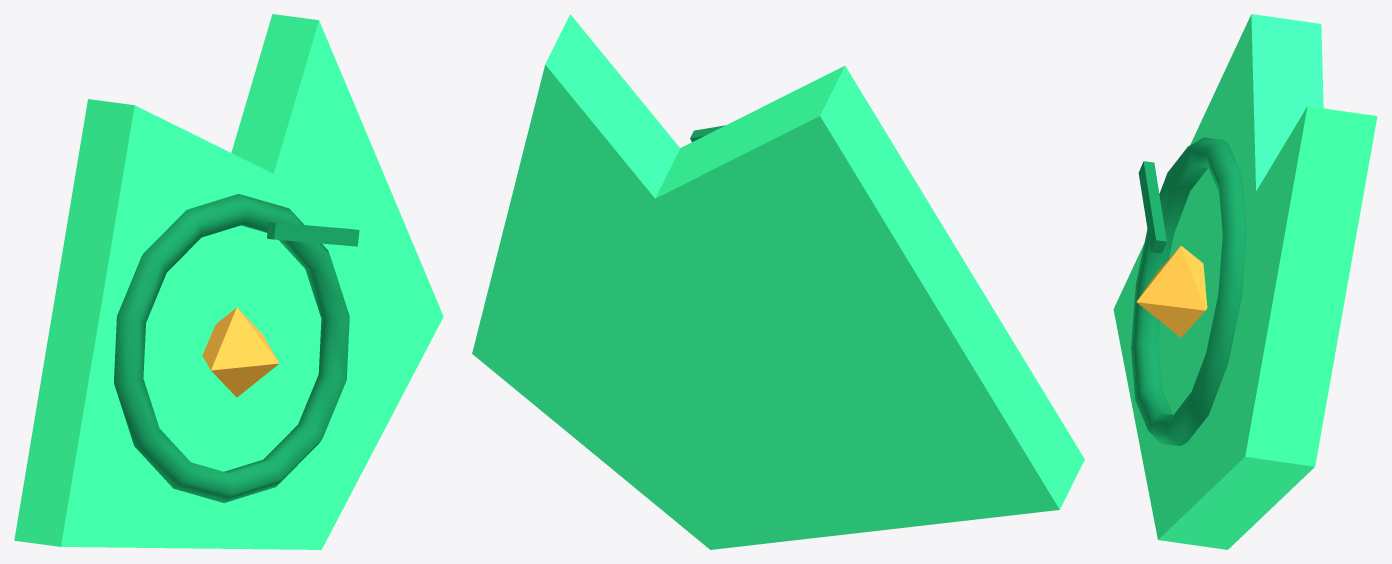
The model's file is jade.glb.
3 views of the same model, side by side, from view 1: azimuth 30°, elevation 25°; view 2: azimuth 150°, elevation 25°; view 3: azimuth 270°, elevation 25° (orthographic). The views are drawn at different scales.
Visible parts, largest first — view 1: jade; view 2: jade; view 3: jade.
Boxes of the visible parts, box(x1,y1,x2,y2) form: jade: box(14, 14, 443, 549); jade: box(472, 14, 1084, 549); jade: box(1113, 14, 1377, 549).
Size of the model in its own units: 0.1914 by 0.1889 by 0.0931.
